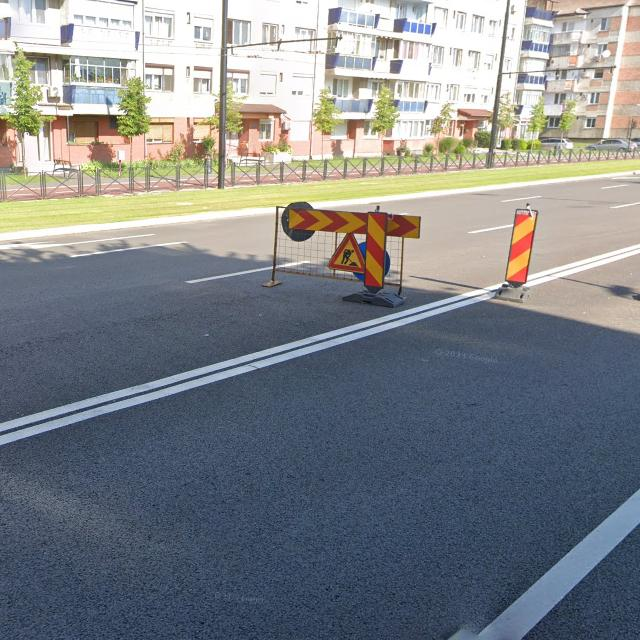warn_construction: (328, 232, 366, 273)
